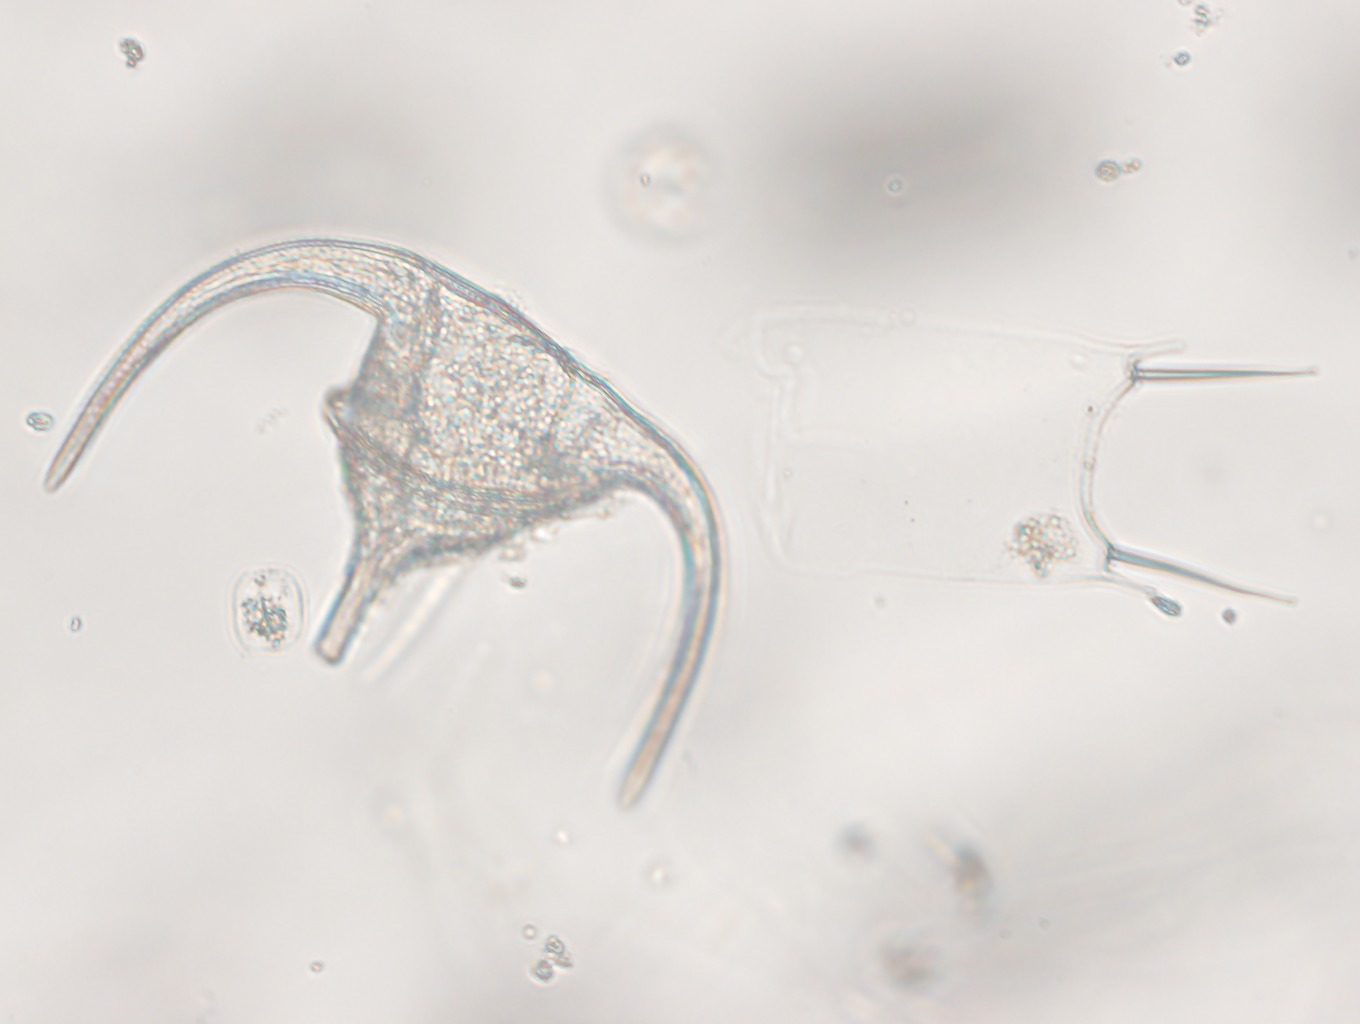biddulphia: (743, 304, 1320, 606)
ceratium tripos: (44, 234, 720, 814)
